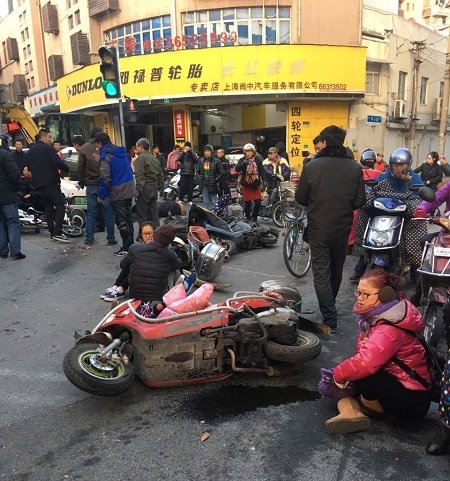10+: (1, 85, 450, 461)
down: (313, 262, 439, 443), (96, 216, 174, 311), (111, 224, 197, 309)
